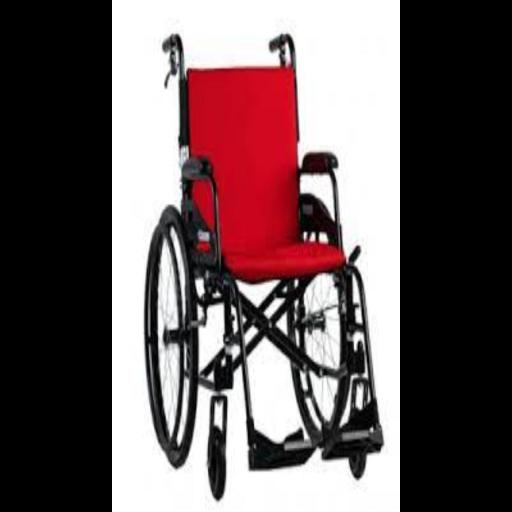cadeira_de_rodas: (136, 28, 383, 502)
